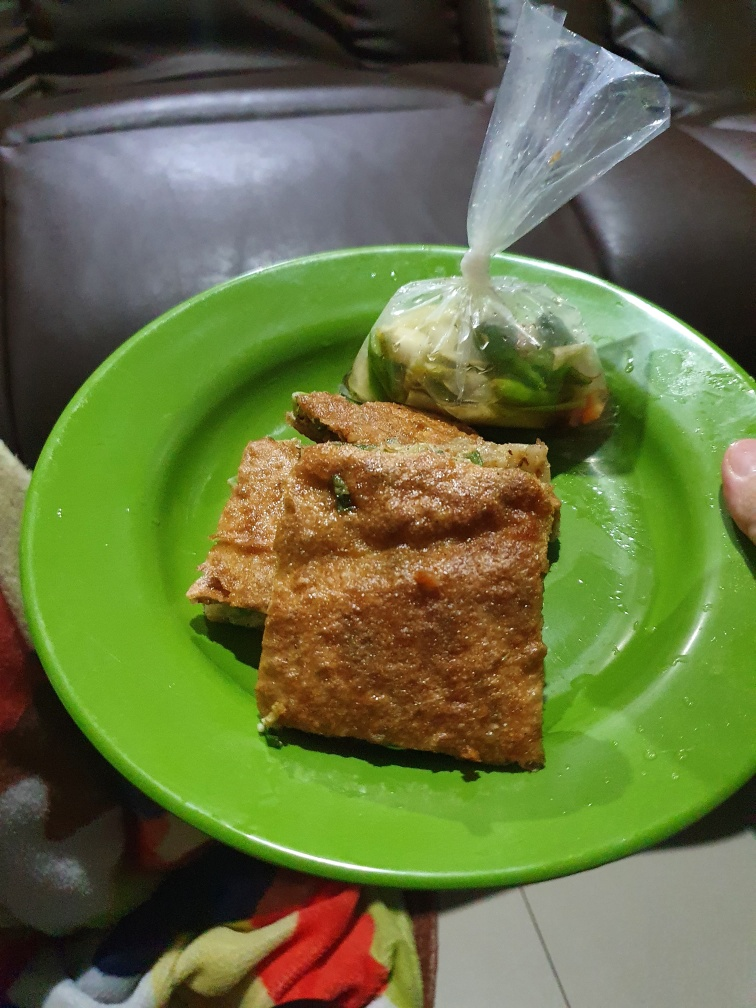martabak telor: (261, 441, 568, 781)
